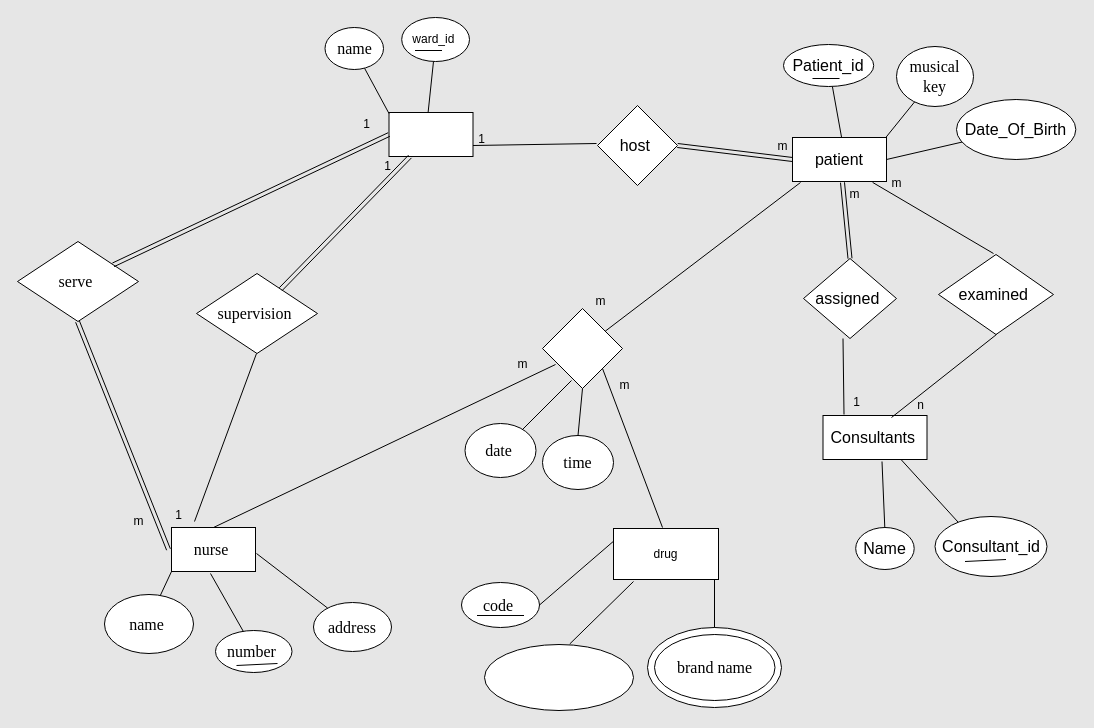
The diagram is 1094 pixels wide and 728 high, and some of its shapes have lost their labels. Each missing label, with the centre of its shape:
"gives" goes at point (582, 348).
"recommended_dosage" goes at point (559, 677).
"ward" goes at point (430, 134).
